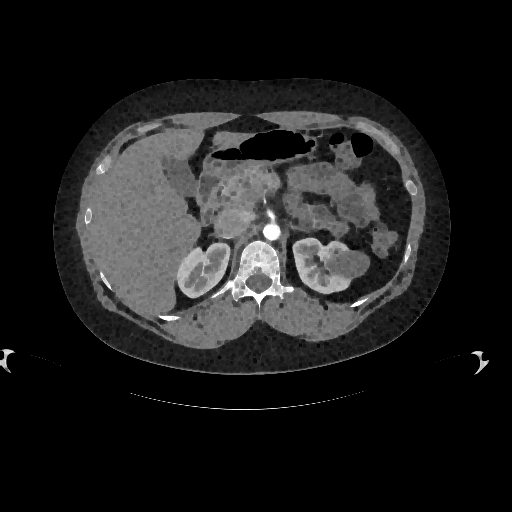Lesion: (327, 243, 372, 280)
